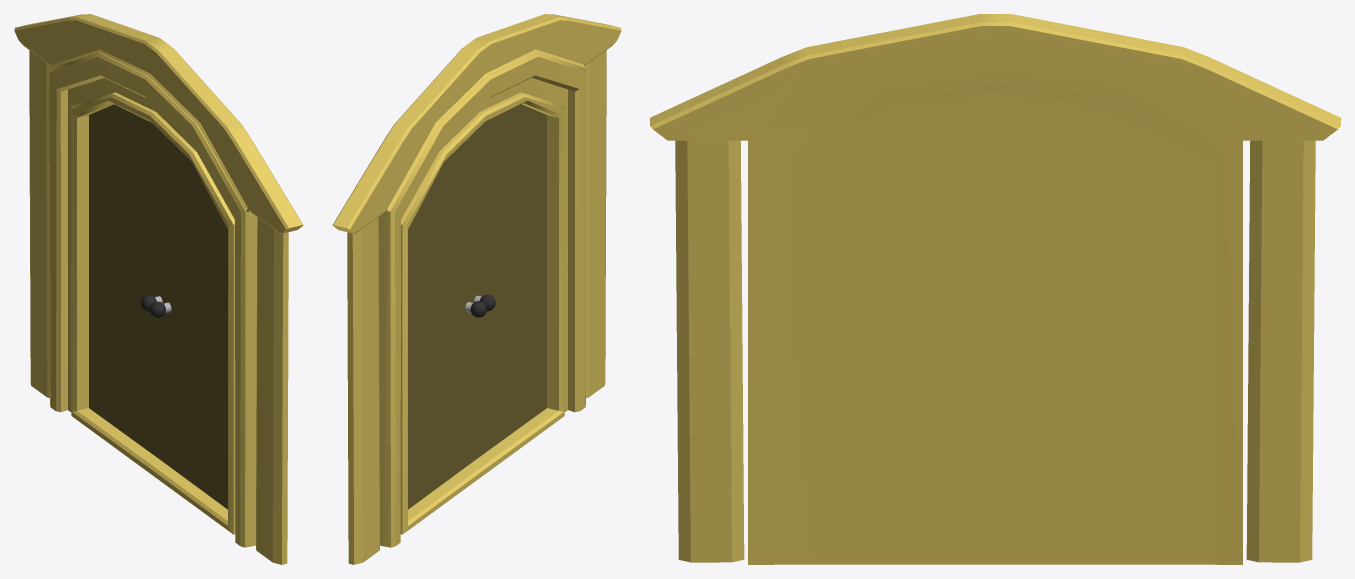
File: wwr door.fbx
3 renders of one model, left to right at view 1: azimuth 30°, elevation 25°; view 2: azimuth 150°, elevation 25°; view 3: azimuth 270°, elevation 25°, orthographic. The views are drawn at different scales.
Visible parts, largest first — view 1: door1; view 2: door1; view 3: door1.
Boxes of the visible parts, x1,y1,x2,y2 form: door1: (14, 14, 303, 564); door1: (332, 14, 621, 564); door1: (650, 14, 1340, 564).
Size of the model in its own units: 0.6648 by 12.07 by 13.95.
